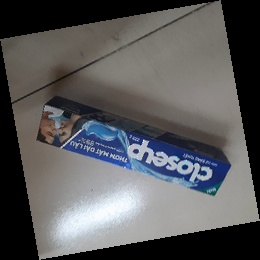CloseUp Tuyet: (36, 97, 231, 200)
